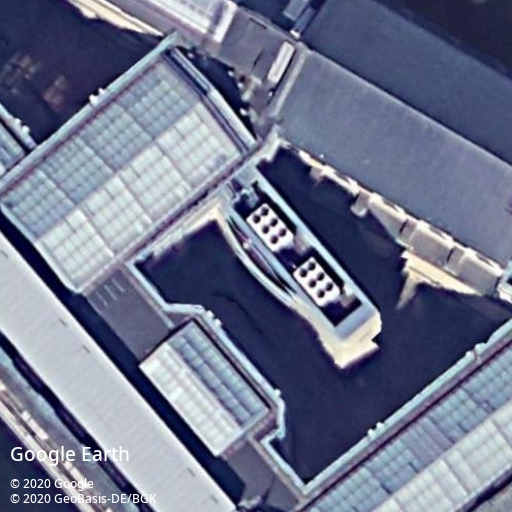Chiller: (246, 202, 296, 252), (292, 257, 342, 306)
